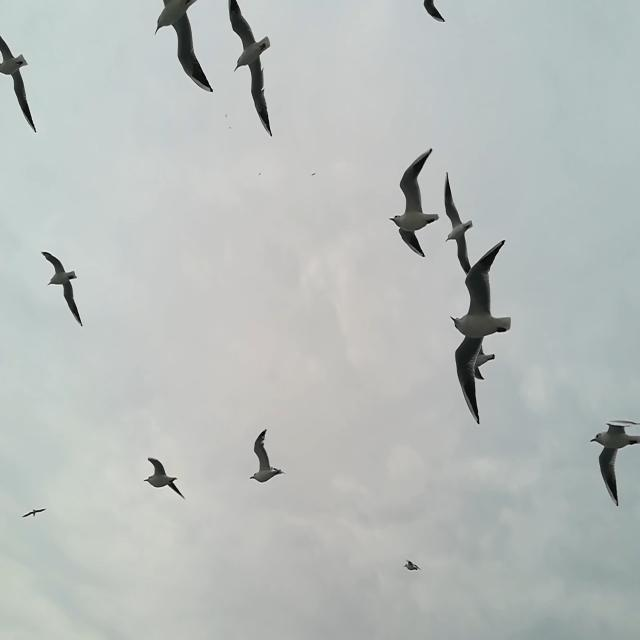bird: (443, 239, 518, 430), (226, 0, 274, 142), (389, 140, 440, 271), (152, 0, 215, 105), (586, 407, 640, 512), (37, 239, 88, 335), (0, 23, 41, 138), (439, 166, 474, 284), (248, 428, 288, 492), (144, 450, 186, 507), (397, 547, 427, 584), (21, 503, 48, 528)
